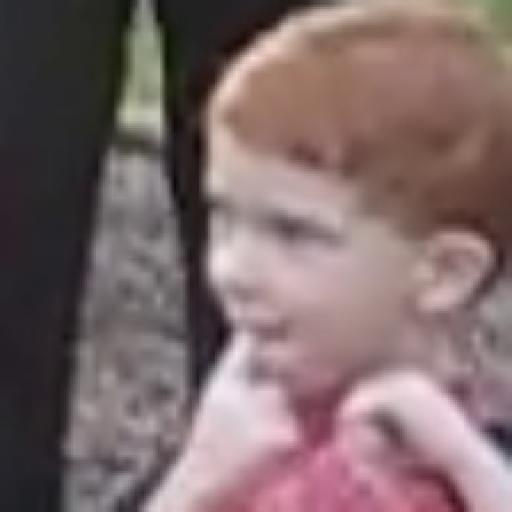Autism: (166, 11, 512, 427)
